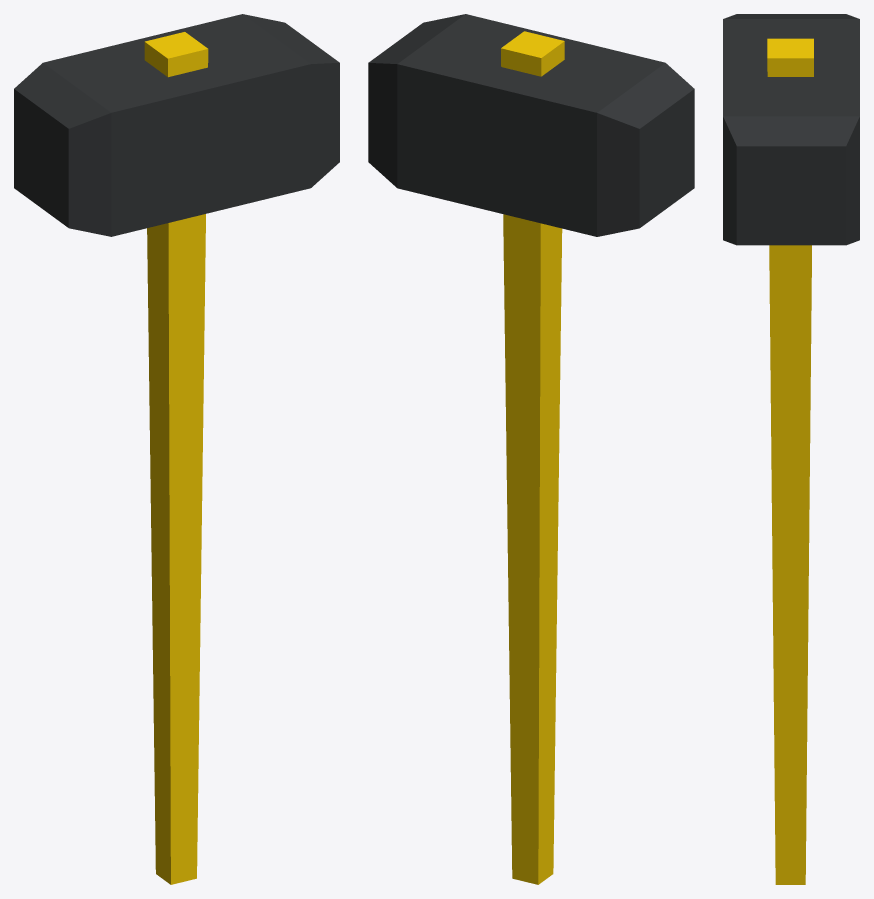
Rendered from sledge hammer.fbx.
3 views of the same model, side by side, from view 1: azimuth 30°, elevation 25°; view 2: azimuth 150°, elevation 25°; view 3: azimuth 270°, elevation 25° (orthographic).
Parts seen in each view (by area): view 1: Cube; view 2: Cube; view 3: Cube.
Part boxes in pixels (box(x1,y1,x2,y2)): Cube: box(14, 14, 339, 884); Cube: box(368, 14, 694, 884); Cube: box(723, 14, 859, 884).
Bounding box in the file's own units: 30.73 × 90 × 13.44.
